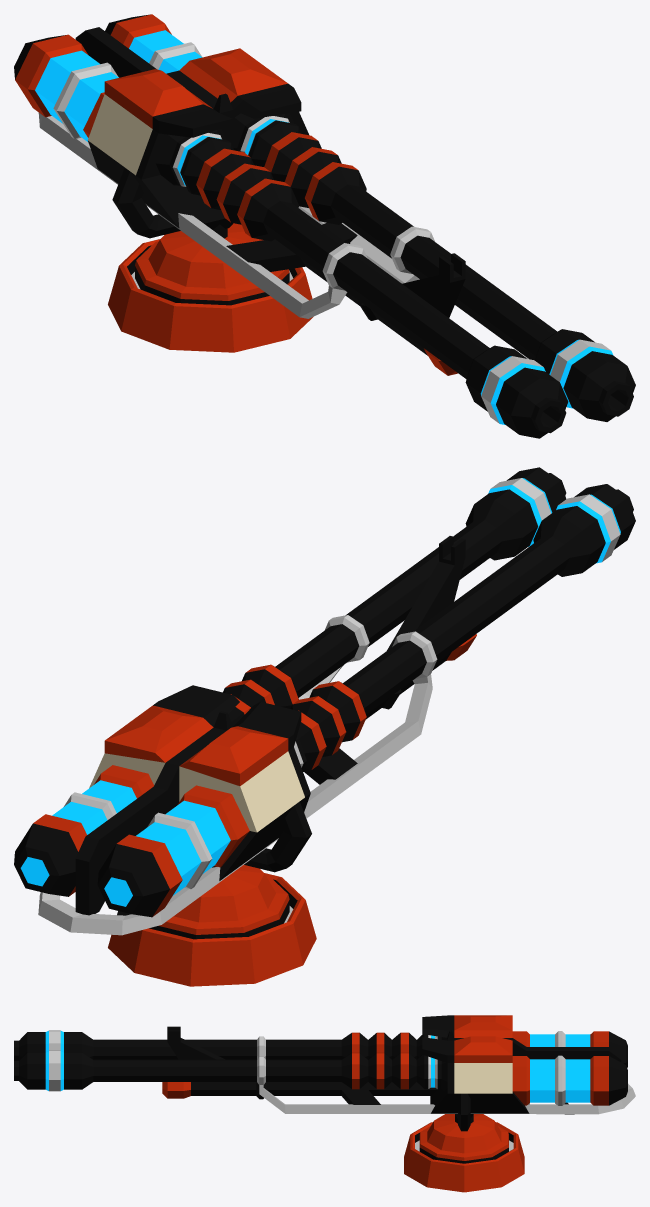
The model's file is LaserGunPack_01.FBX.
3 views of the same model, one above another, from view 1: azimuth 30°, elevation 25°; view 2: azimuth 150°, elevation 25°; view 3: azimuth 270°, elevation 25° (orthographic). The views are drawn at different scales.
Visible parts, largest first — view 1: laserGun_02, turret_02, turretBearing; view 2: laserGun_02, turret_02, turretBearing; view 3: laserGun_02, turret_02, turretBearing.
Boxes of the visible parts, x1,y1,x2,y2 form: laserGun_02: (14, 14, 635, 438); turret_02: (108, 239, 312, 352); turretBearing: (135, 223, 289, 305); laserGun_02: (14, 467, 635, 935); turret_02: (108, 873, 316, 986); turretBearing: (149, 865, 289, 939); laserGun_02: (14, 1015, 635, 1131); turret_02: (404, 1122, 524, 1192); turretBearing: (419, 1114, 508, 1163).
Size of the model in its own units: 4.03 by 18.44 by 4.47.
